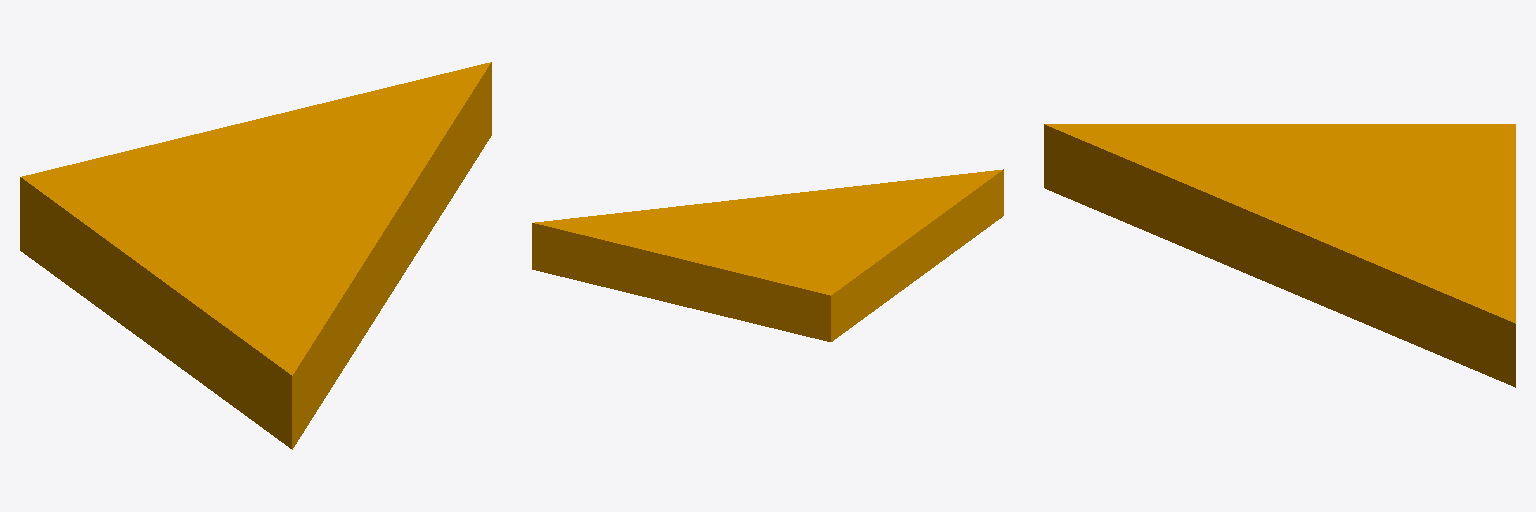
URDF robot description (LT):
<?xml version="0.0" ?>
<robot name="LT">
  <material name="Color">
    <color rgba="0.984, 0.000, 0.165, 1.0"/>
  </material>
  <link name="LT">
    <inertial>
      <origin rpy="0 0 0" xyz="0 0 0"/>
       <mass value=".0"/>
       <inertia ixx="0" ixy="0" ixz="0" iyy="0" iyz="0" izz="0"/>
    </inertial>
    <visual>
      <origin rpy="0 0 0" xyz="0 0 0"/>
      <geometry>
		<mesh filename="LT.obj" scale="0.001 0.001 0.001"/>
      </geometry>
      <material name="Color"/>
    </visual>
    <collision>
      <origin rpy="0 0 0" xyz="0 0 0"/>
      <geometry>
	 	<mesh filename="LT.obj" scale="1 1 1"/>
      </geometry>
    </collision>
  </link>
</robot>

--- What the picture shows (computed from the rendered views, not written in the file) ---
The picture shows the robot from 3 angles, left to right: view 1: azimuth 30°, elevation 25°; view 2: azimuth 150°, elevation 25°; view 3: azimuth 270°, elevation 25°; orthographic projection.
Robot: LT — 1 links, 0 joints (none); root link LT; default pose: every joint at zero.
Links seen in each view (by area): view 1: LT; view 2: LT; view 3: LT.
Boxes of the visible links, x1,y1,x2,y2 form: LT: (20, 62, 491, 449); LT: (532, 169, 1003, 341); LT: (1044, 124, 1515, 387).
Size in the robot's own frame: 0.2 by 0.2 by 0.03 metres.
1 mesh visuals loaded from 1 distinct referenced files (1 OBJ).